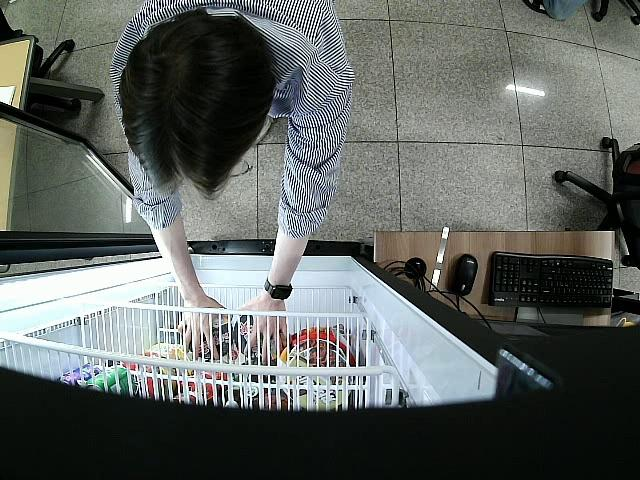00_hand: (238, 296, 286, 360), (177, 302, 227, 357)
07_buldak_L: (232, 313, 287, 360), (190, 318, 234, 362)
